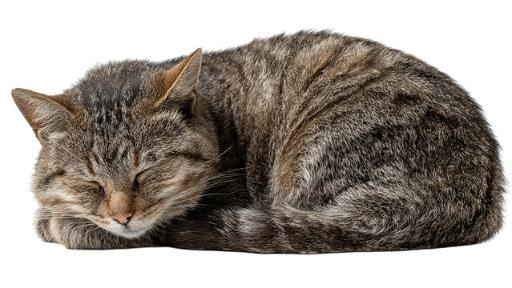cat_sleeping: (12, 32, 504, 253)
